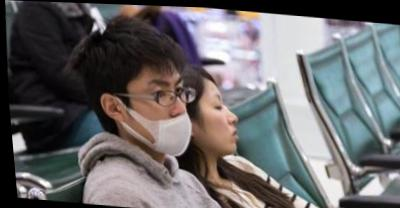NONE: (195, 88, 240, 155)
WRONG: (130, 70, 196, 156)
